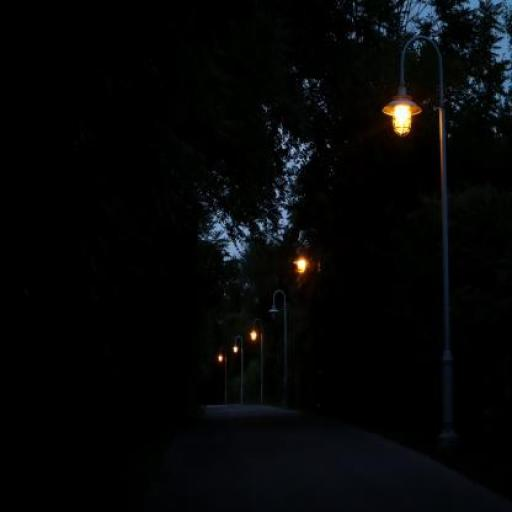street light: (383, 36, 469, 438), (270, 289, 288, 406), (250, 319, 265, 404), (233, 336, 244, 404), (218, 347, 228, 404)
